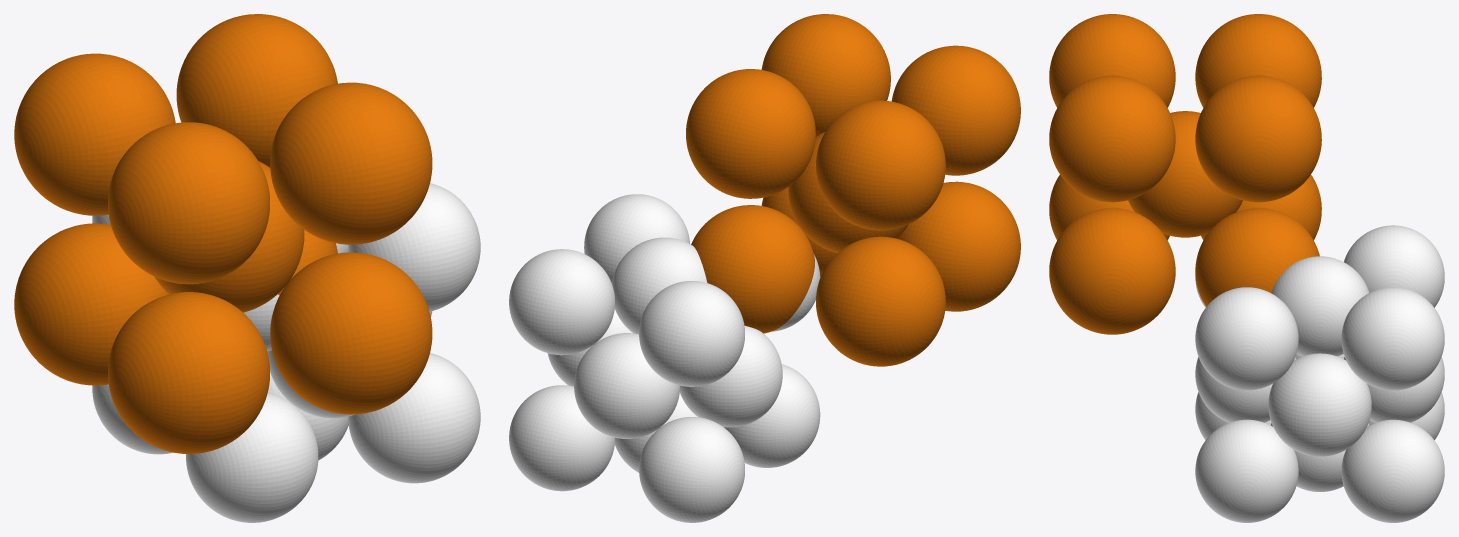
The model's file is BCC_Atoms_2.glb.
The picture shows the model from 3 angles, left to right: view 1: azimuth 30°, elevation 25°; view 2: azimuth 150°, elevation 25°; view 3: azimuth 270°, elevation 25°; orthographic projection. The views are drawn at different scales.
Visible parts, largest first — view 1: BCC_Atoms, FCC_Atoms_2; view 2: BCC_Atoms, FCC_Atoms_2; view 3: BCC_Atoms, FCC_Atoms_2.
Boxes of the visible parts, x1=… form: BCC_Atoms: x1=14, y1=14, x2=432, y2=453; FCC_Atoms_2: x1=92, y1=183, x2=480, y2=522; BCC_Atoms: x1=686, y1=14, x2=1020, y2=366; FCC_Atoms_2: x1=509, y1=194, x2=820, y2=522; BCC_Atoms: x1=1049, y1=14, x2=1321, y2=334; FCC_Atoms_2: x1=1195, y1=225, x2=1444, y2=522.
Bounding box in the file's own units: 1.08 × 1.15 × 1.08.
